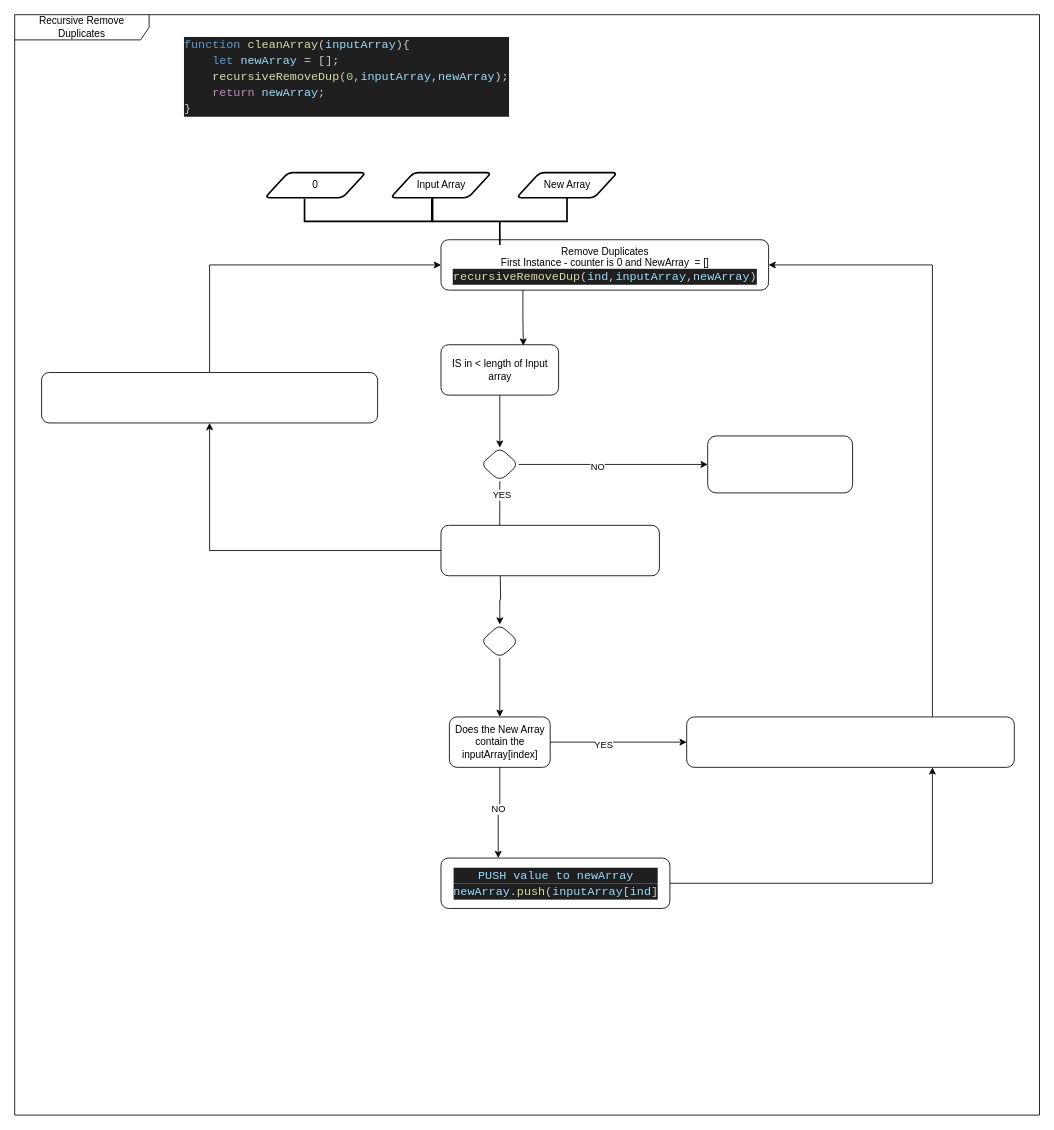
Image size: 1054x1130. Some labels were removed from this diagram. Here are the shapes that lost their labels. From the top down, the box of each, then its label:
(41, 372, 378, 423): recursiveRemoveDup ( 0 , inputArray [ ind ], newArray );
(707, 435, 853, 493): End
(440, 524, 659, 576): IS Input Array an Array Array . isArray ( inputArray [ ind ])
(686, 716, 1014, 767): recursiveRemoveDup ( ind + 1 , inputArray , newArray );
